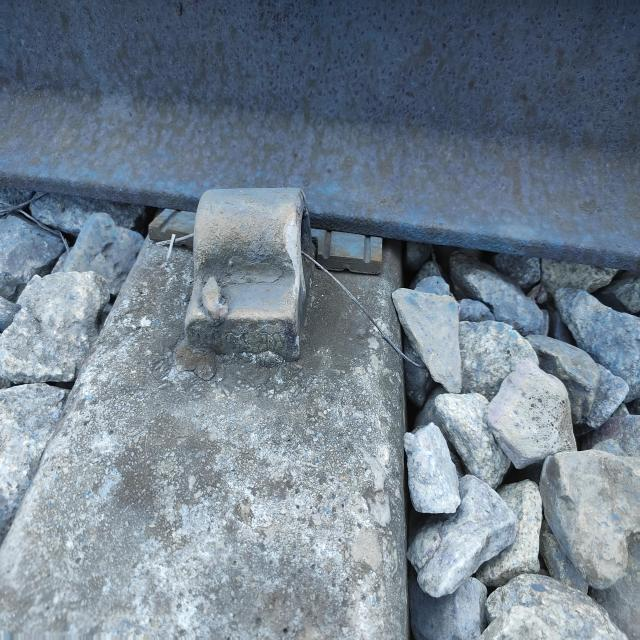Missing Fastener: (96, 155, 361, 405)
